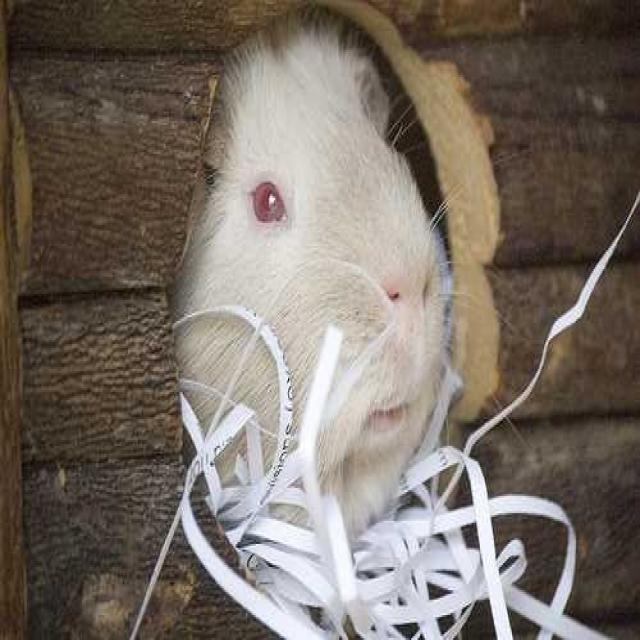guinea pig: (174, 23, 461, 538)
